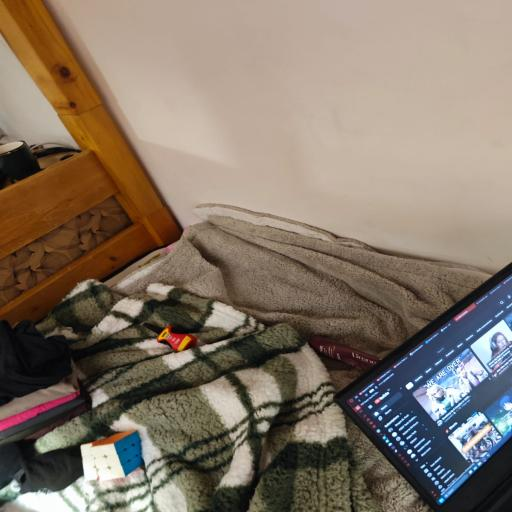Hand Cream: (305, 329, 381, 369)
Rubiks Cube: (79, 430, 149, 480)
Super Glue: (141, 321, 197, 351)
